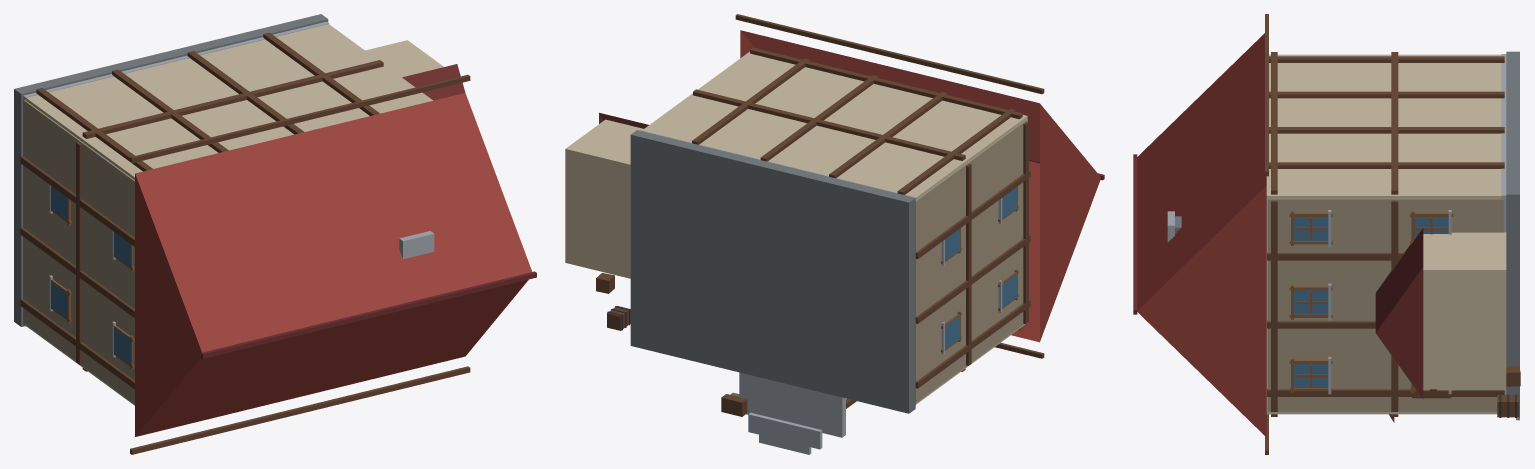
File: worldforge_building_81234.obj
3 views of the same model, side by side, from view 1: azimuth 30°, elevation 25°; view 2: azimuth 150°, elevation 25°; view 3: azimuth 270°, elevation 25° (orthographic). The views are drawn at different scales.
Visible parts, largest first — view 1: mainRoof, walls, leftWallTone, foundation, eaveTrimBack, eaveTrimFront, ridgeCap, backBeam_1, extension, leftBeam_1, plinth, extensionRoof (+8 smaller); view 2: foundation, walls, leftWallTone, mainRoof, extension, porchDeck, eaveTrimBack, backBeam_1, backBeam_2, step1, leftBeam_1, leftBeam_2 (+7 smaller); view 3: mainRoof, walls, rightWallTone, extension, extensionRoof, foundation, backPost_-1.36, backPost_2.04, backPost_-3.06, backPost_0.34, rightPost_-1.95, rightBeam_2 (+13 smaller).
Boxes of the visible parts, x1,y1,x2,y2 form: mainRoof: (135, 93, 532, 436); walls: (26, 24, 432, 405); leftWallTone: (23, 100, 134, 403); foundation: (14, 14, 328, 326); eaveTrimBack: (130, 74, 470, 163); eaveTrimFront: (130, 366, 470, 454); ridgeCap: (201, 271, 536, 358); backBeam_1: (82, 60, 383, 138); extension: (365, 40, 443, 77); leftBeam_1: (76, 142, 82, 364); plinth: (23, 21, 329, 326); extensionRoof: (402, 64, 465, 100); foundation: (630, 130, 915, 413); walls: (642, 51, 1027, 403); leftWallTone: (915, 119, 1027, 402); mainRoof: (740, 30, 1100, 342); extension: (565, 119, 643, 278); porchDeck: (739, 372, 845, 437); eaveTrimBack: (735, 14, 1044, 94); backBeam_1: (693, 89, 965, 160); backBeam_2: (750, 47, 1022, 119); step1: (748, 412, 822, 449); leftBeam_1: (966, 163, 971, 365); leftBeam_2: (1023, 122, 1028, 323); mainRoof: (1137, 33, 1266, 437); walls: (1266, 54, 1501, 414); rightWallTone: (1268, 198, 1503, 411); extension: (1423, 232, 1506, 390); extensionRoof: (1375, 228, 1423, 398); foundation: (1506, 51, 1519, 417); backPost_-1.36: (1269, 91, 1504, 98); backPost_2.04: (1269, 162, 1504, 168); backPost_-3.06: (1269, 56, 1504, 62); backPost_0.34: (1269, 127, 1504, 133); rightPost_-1.95: (1267, 389, 1504, 396); rightBeam_2: (1271, 200, 1277, 411).
Size of the model in its own units: 9.17 by 7.23 by 7.88.
